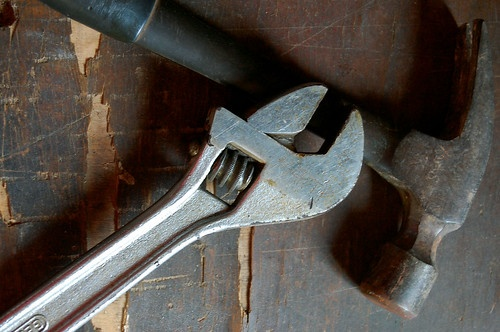hammer: (42, 6, 493, 317)
